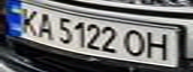1: (69, 19, 87, 48)
2: (81, 20, 103, 52), (100, 24, 121, 55)
5: (54, 16, 75, 45)
A: (30, 11, 57, 40)
H: (142, 29, 175, 62)
K: (12, 6, 42, 36)
O: (121, 28, 148, 58)
